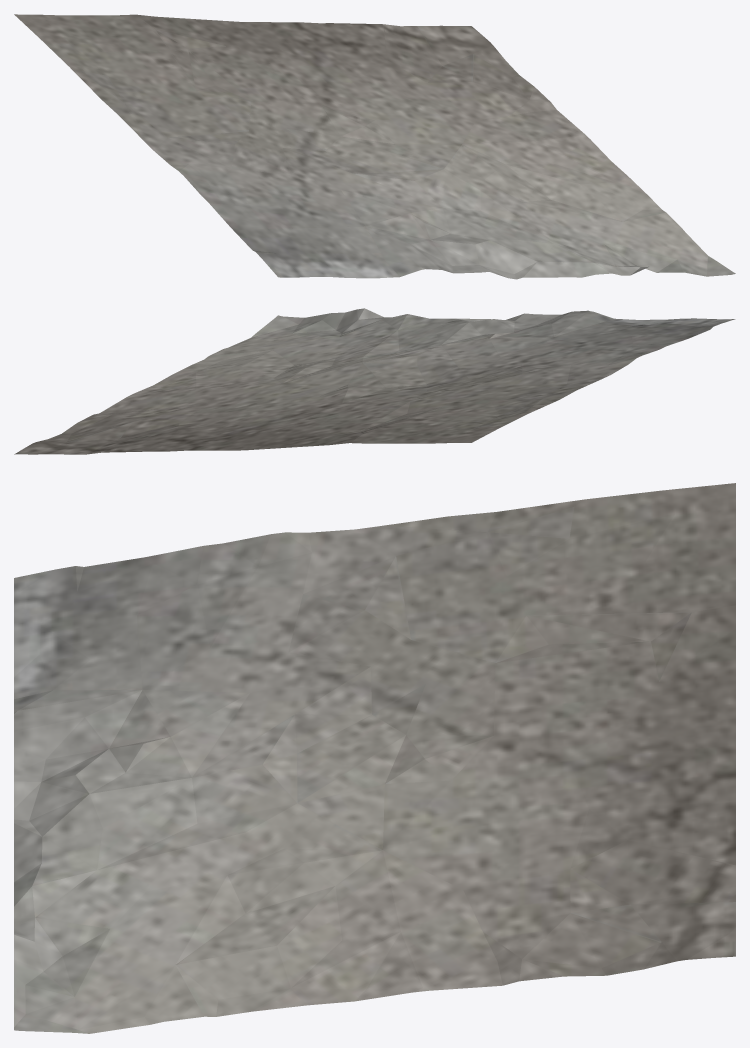
3 views of the same model, one above another, from view 1: azimuth 30°, elevation 25°; view 2: azimuth 150°, elevation 25°; view 3: azimuth 270°, elevation 25° (orthographic). The views are drawn at different scales.
Size of the model in its own units: 1.67 by 0.6291 by 1.67.
Materials: 3 (3 with a texture image).
